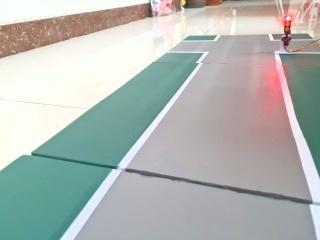red: (277, 8, 296, 44)
